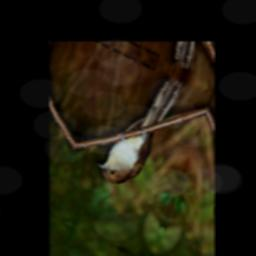Cuckoo: (93, 60, 184, 199)
